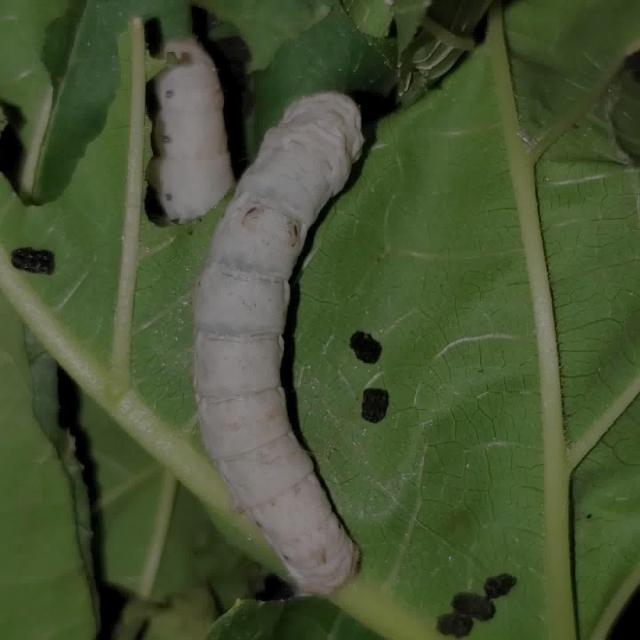Healthy: (182, 72, 374, 597)
